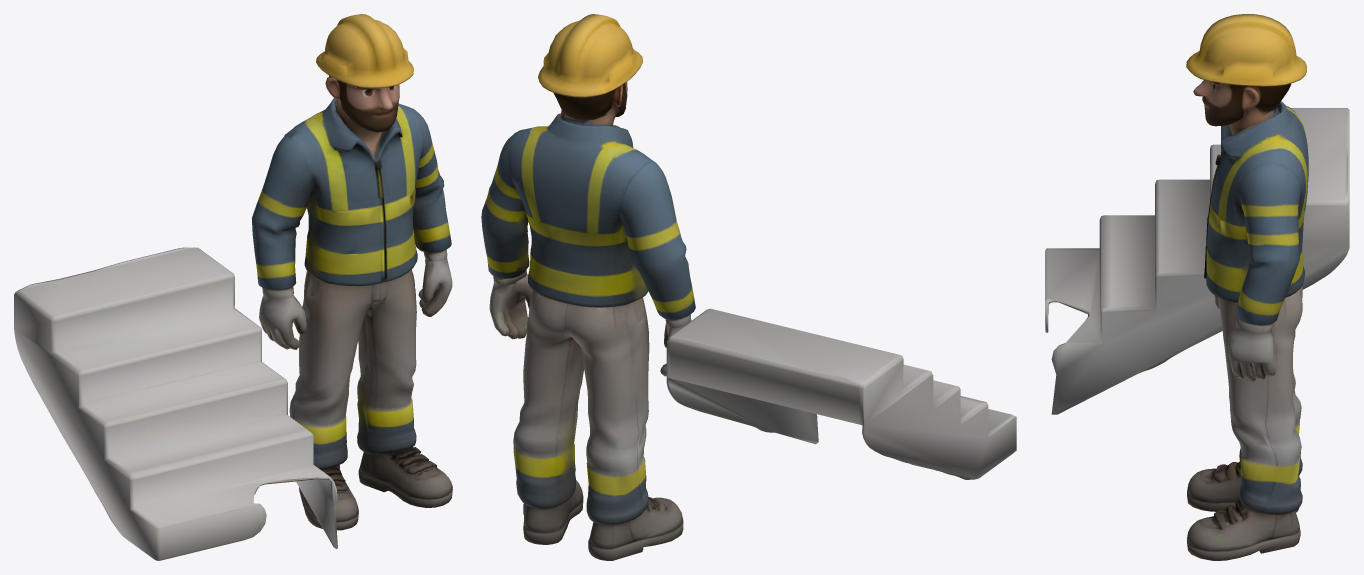
The model's file is emergency_staircase_9228c6bf_v4.glb.
3 renders of one model, left to right at view 1: azimuth 30°, elevation 25°; view 2: azimuth 150°, elevation 25°; view 3: azimuth 270°, elevation 25°, orthographic. The views are drawn at different scales.
Visible parts, largest first — view 1: material; view 2: material; view 3: material.
Boxes of the visible parts, left/top/right/bottom form: material: left=14, top=14, right=452, bottom=560; material: left=481, top=14, right=1016, bottom=560; material: left=1045, top=14, right=1349, bottom=560.
Bounding box in the file's own units: 1.63 × 1.9 × 1.03.
Materials: 1 (1 with a texture image).
